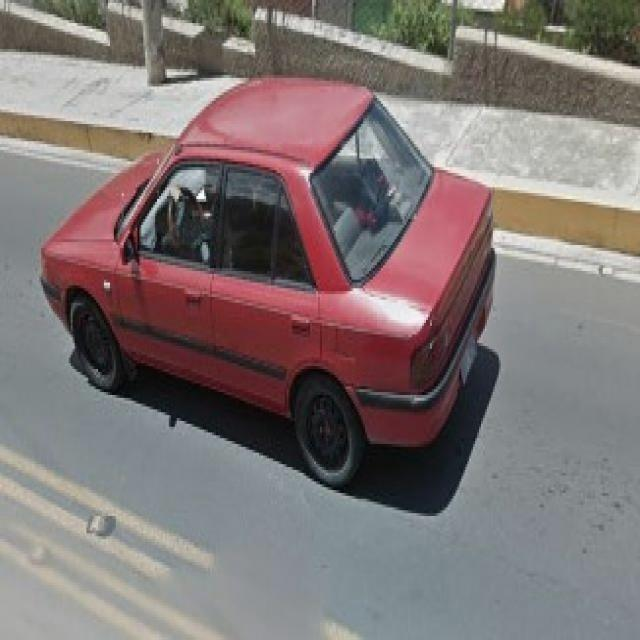Car: (38, 90, 502, 487)
